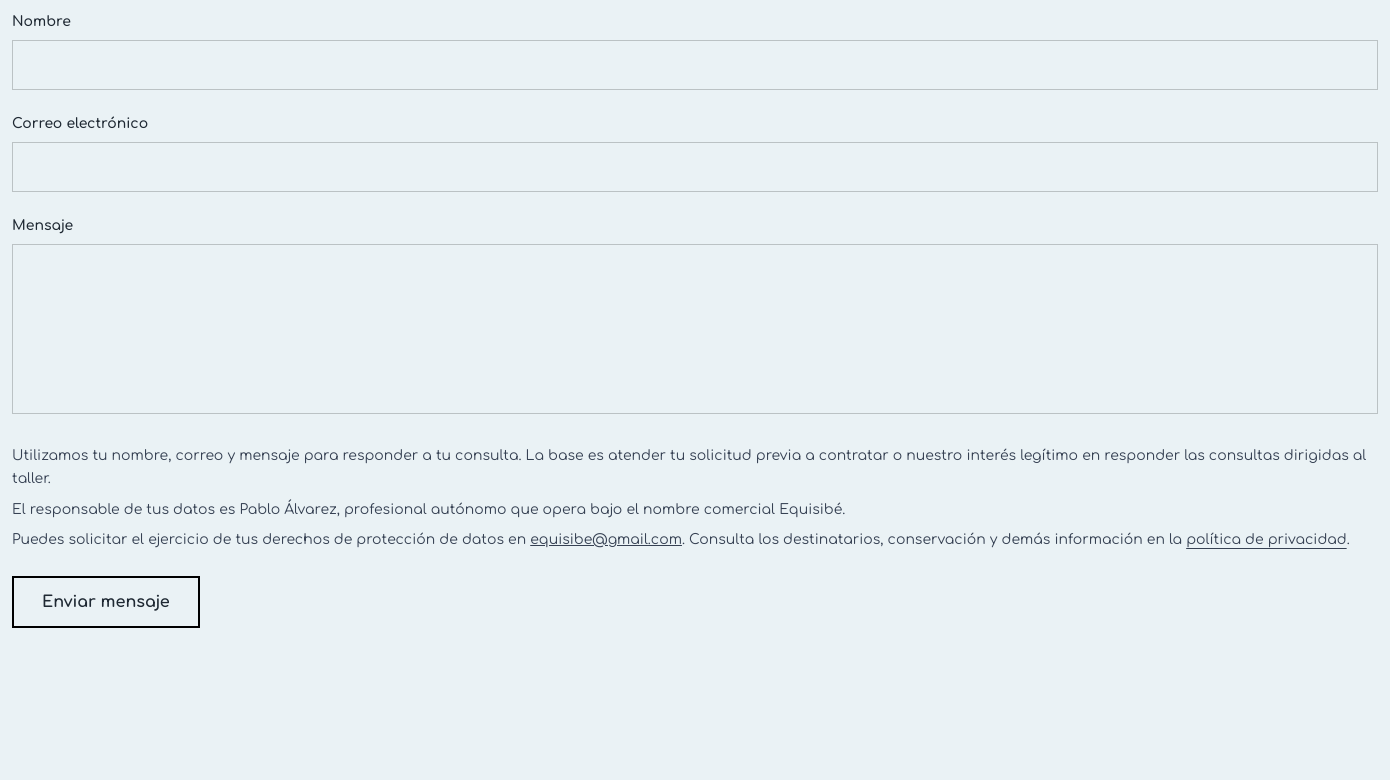
ContactForm › shows success and clears the form after submitting
Type "Andrea" into the field with id "name" at (695, 65), box [12,40,1378,90]
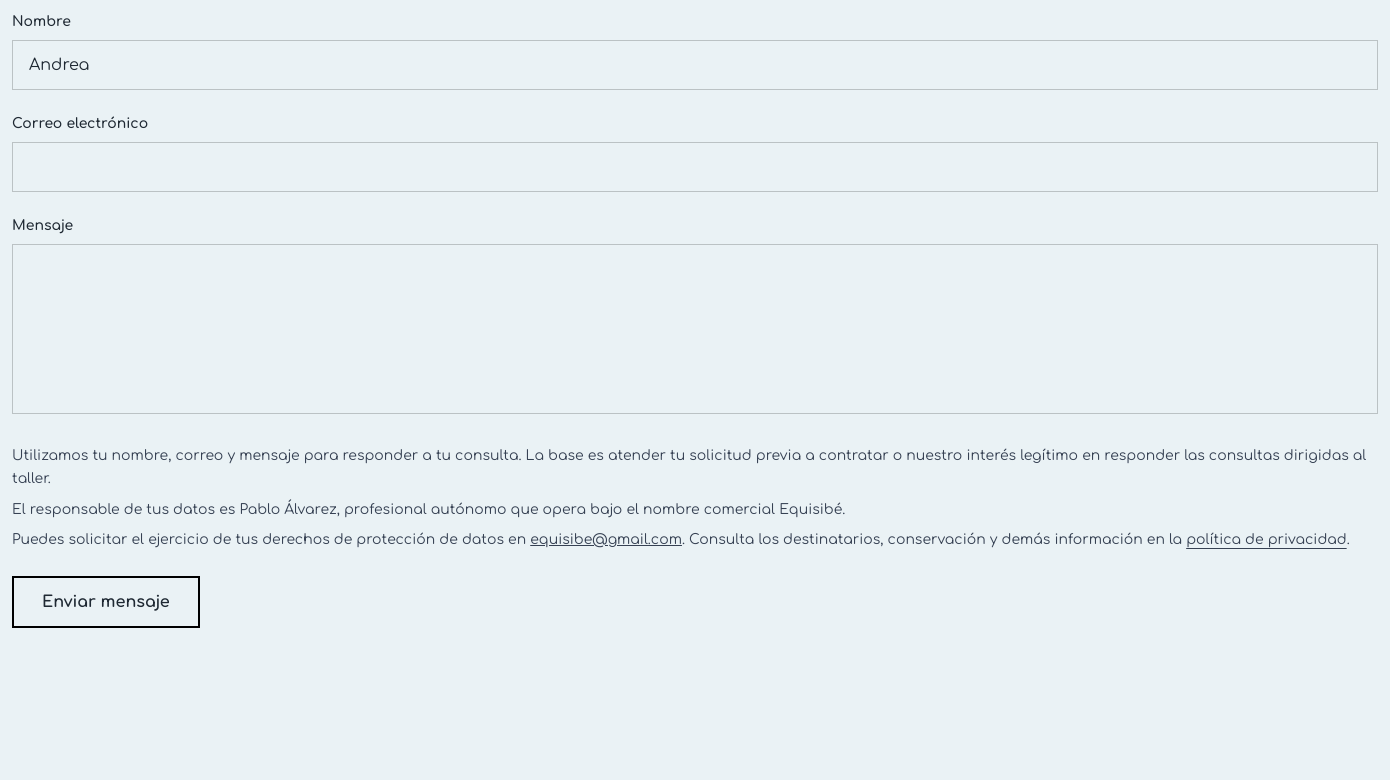
Type "andrea@email.com" into the field with id "email" at (695, 167), box [12,142,1378,192]
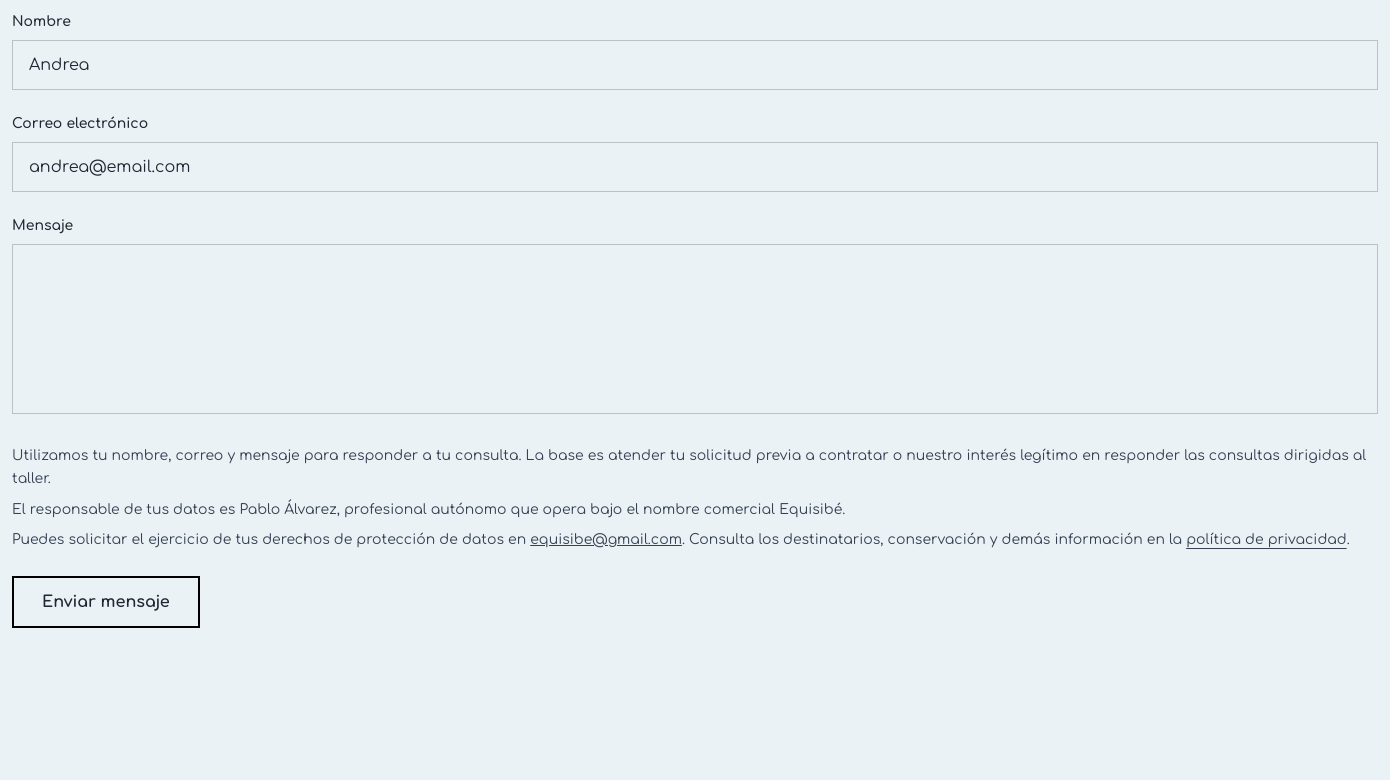
Type "Quiero información" into the text box with id "message" at (695, 329), box [12,244,1378,414]
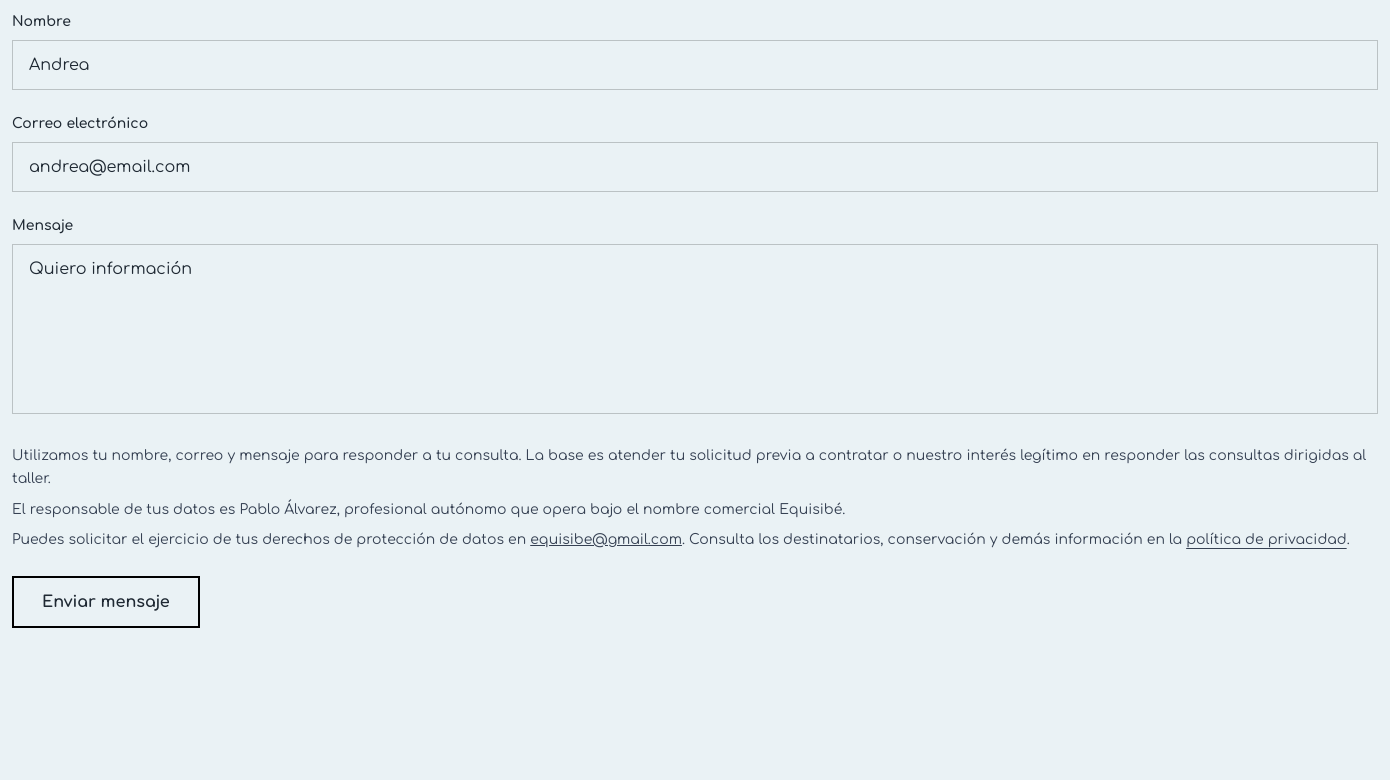
Submit the form
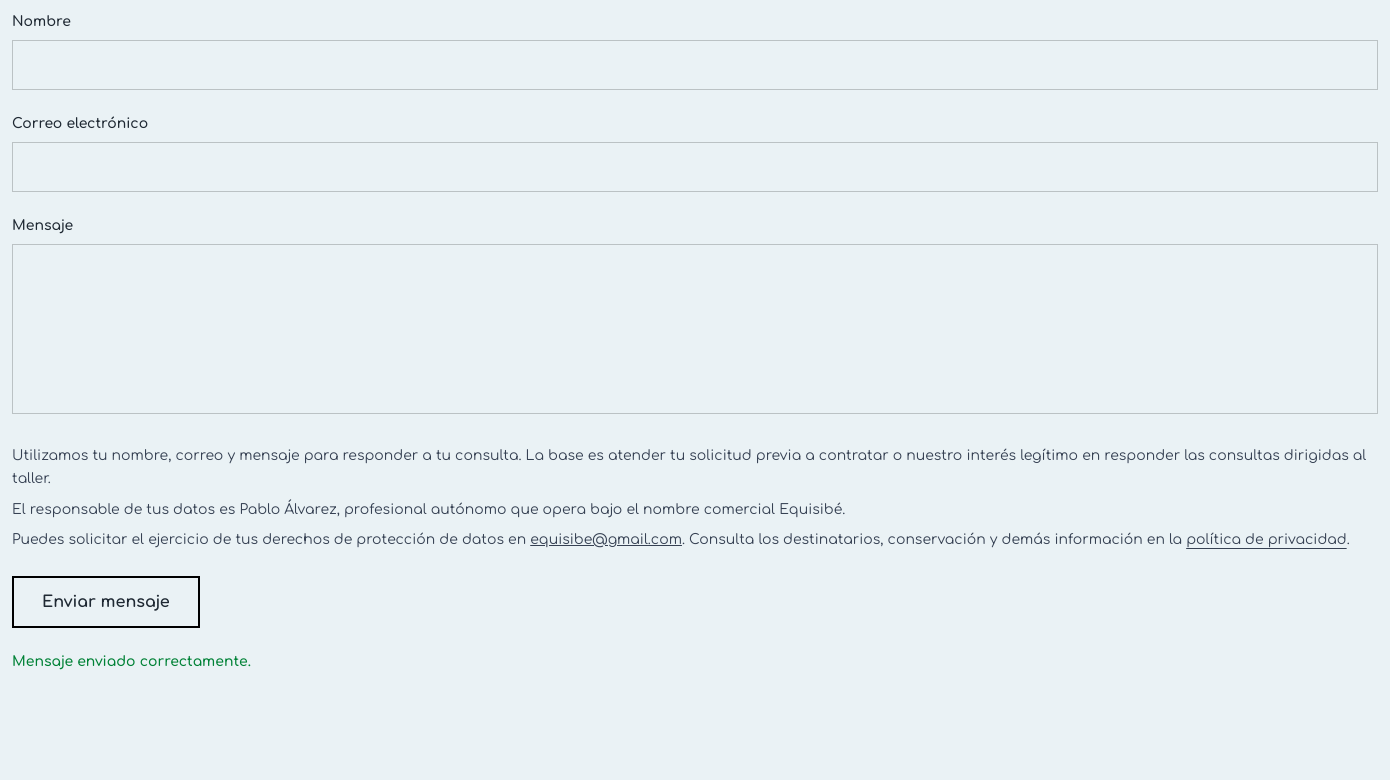
Result: the message "Mensaje enviado correctamente." is shown at [12,654,251,669]
Result: the field with id "name" is empty at [12,40,1378,90]
Result: the field with id "email" is empty at [12,142,1378,192]
